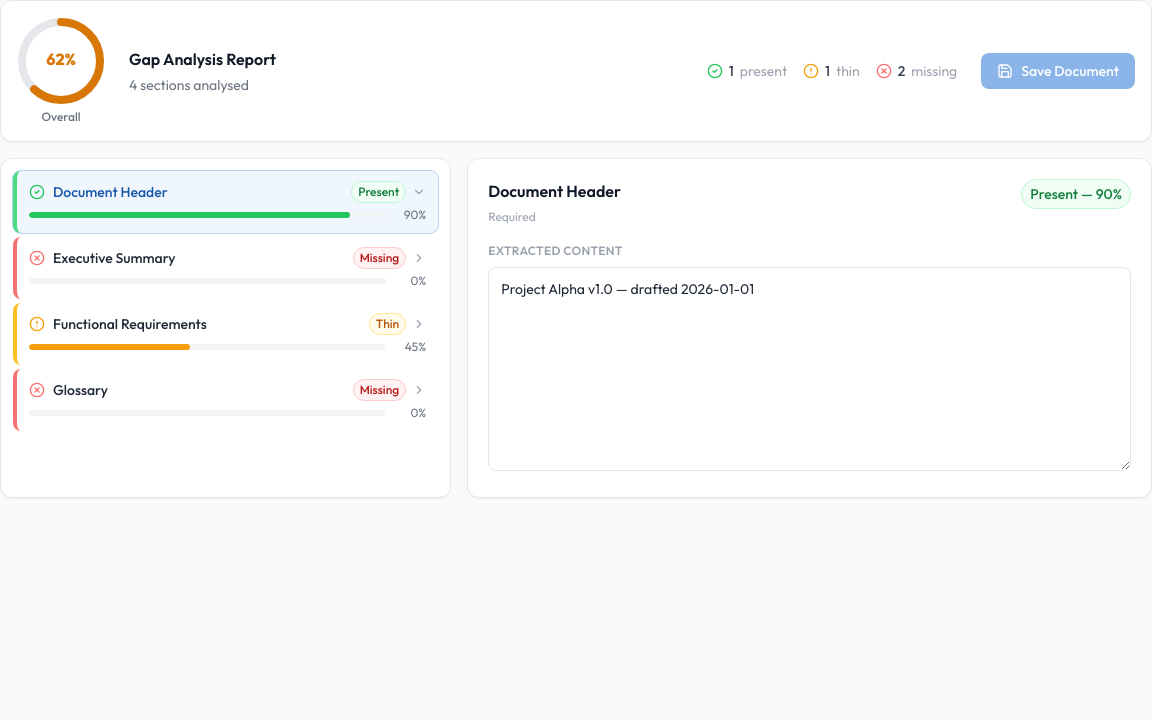
GapAnalysisPanel — Fill with AI › populates textarea with AI draft after fill
What coordinates should you click on to do the following:
click the text "Executive Summary"
I would click on:
 (114, 258)
Its box is [53,248,176,268].
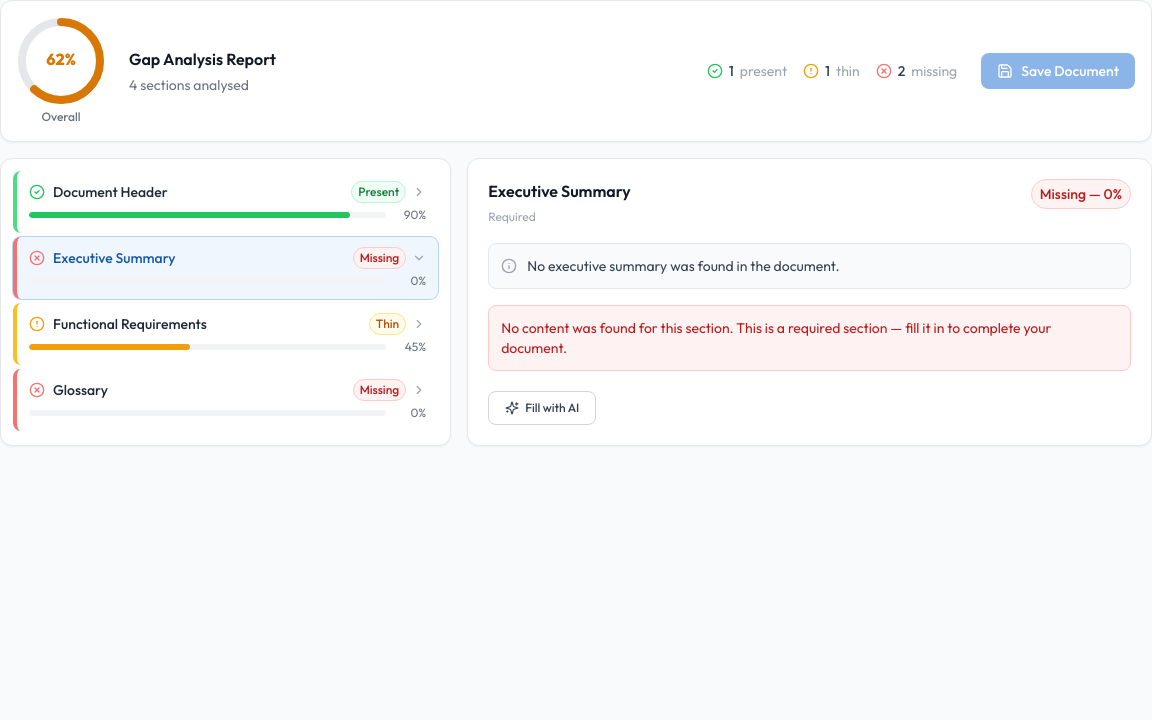
What coordinates should you click on to do the following:
click the button with aria-label "fill executive summary with ai"
I would click on:
 (542, 408)
Its box is [488,391,596,425].
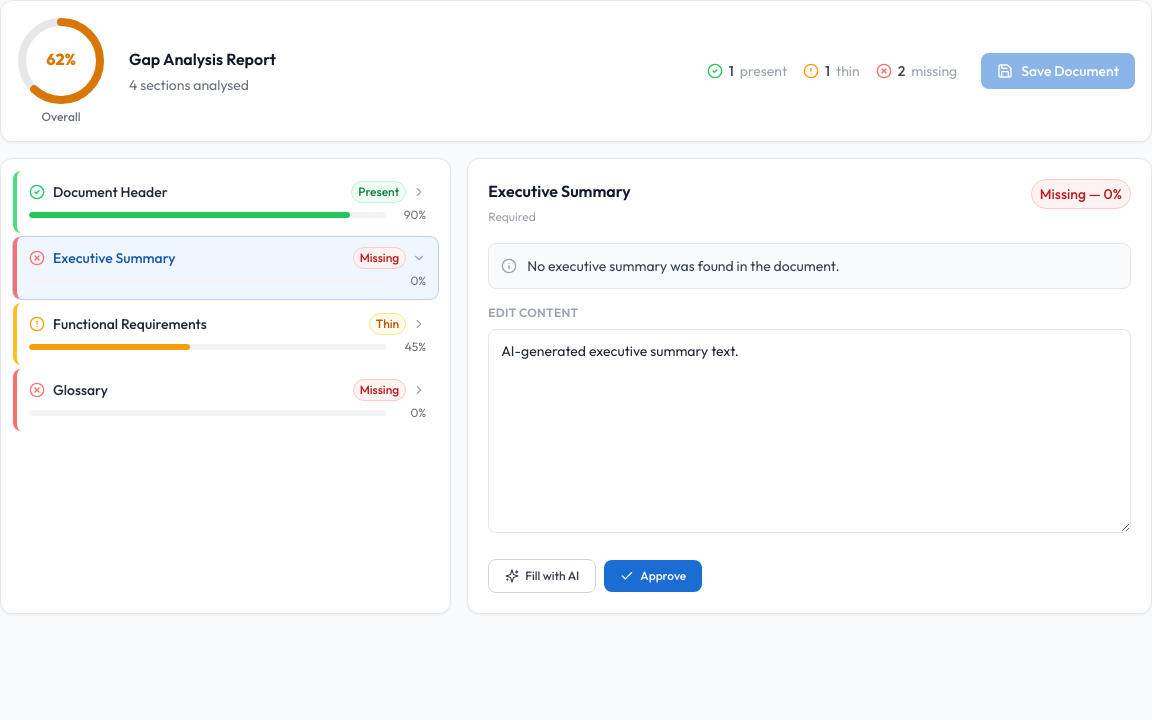
Expected: the text box showing "AI-generated executive summary text." is shown, [488,329,1131,533]
